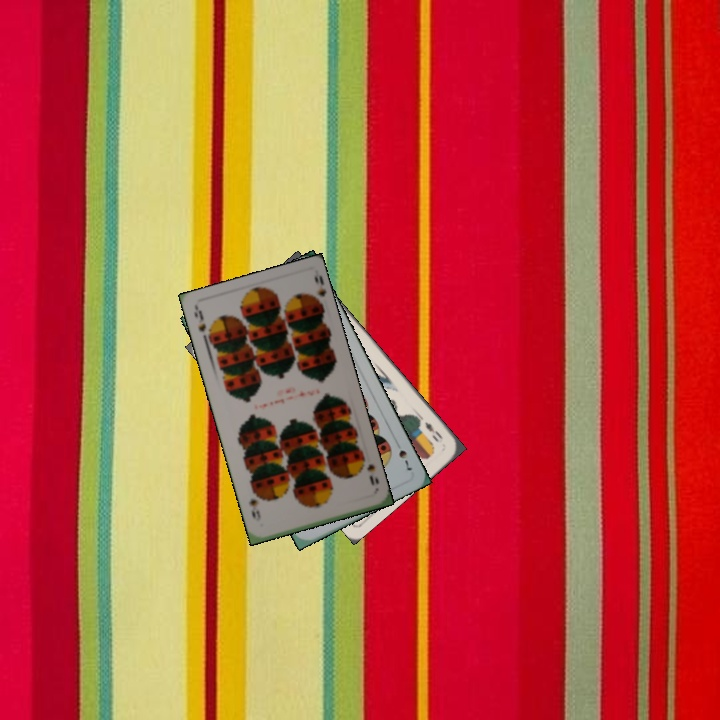EO: (420, 418, 446, 445)
S7: (395, 446, 415, 473)
S9: (190, 305, 210, 345), (357, 453, 377, 488)
